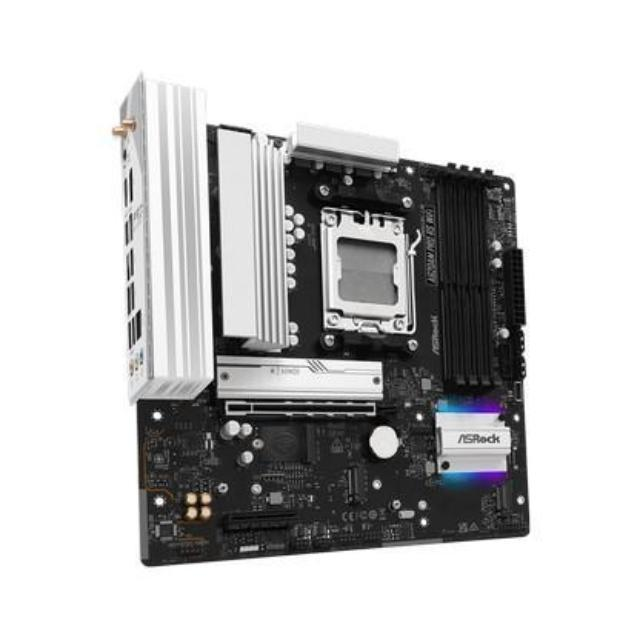Mainboard: (107, 62, 539, 584)
